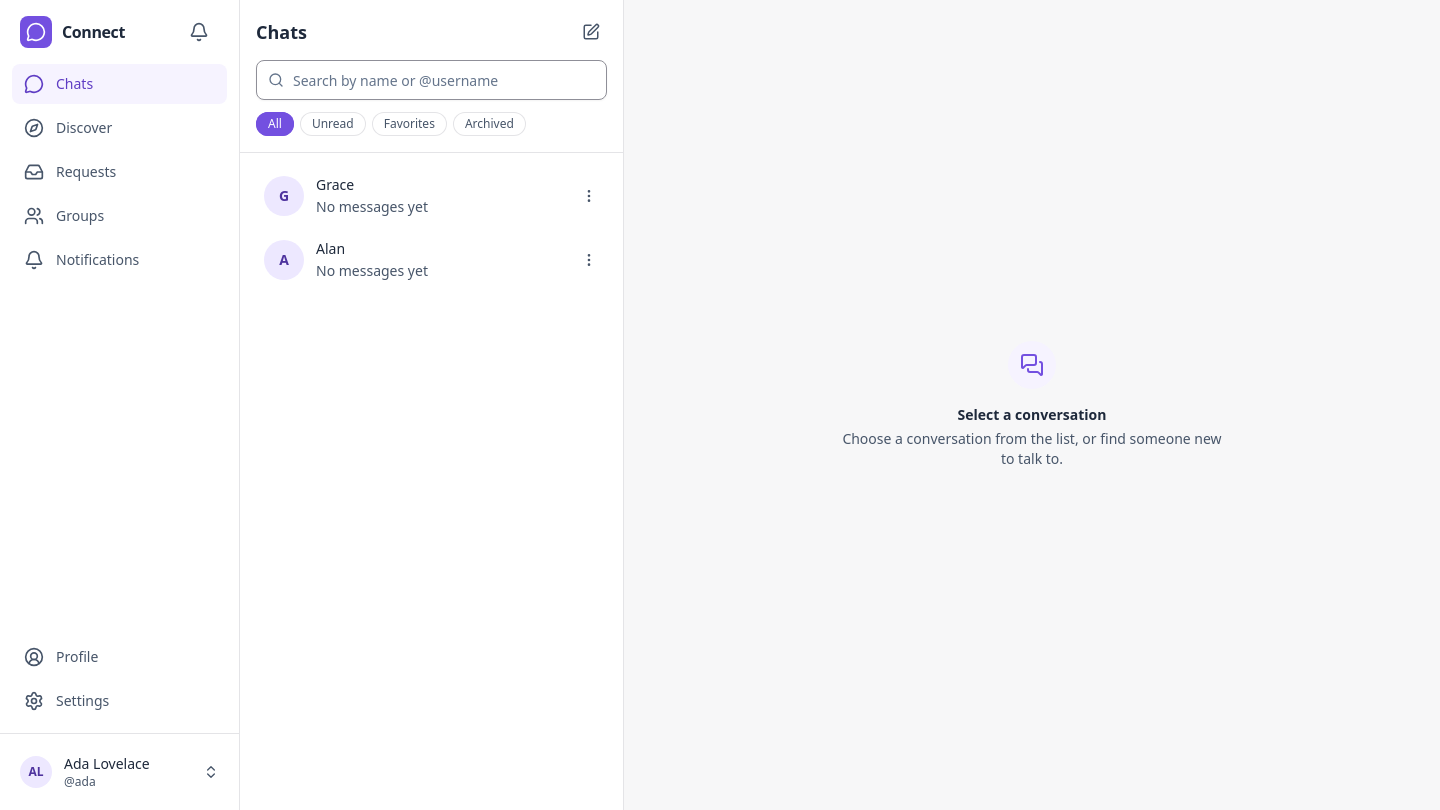
Test: chat list management › archives from the row menu and confirms only after the server succeeds
Step 1. Click the button named "Chat options for Grace" → coordinates (589, 196), box top-left (573, 180), bottom-right (605, 212)
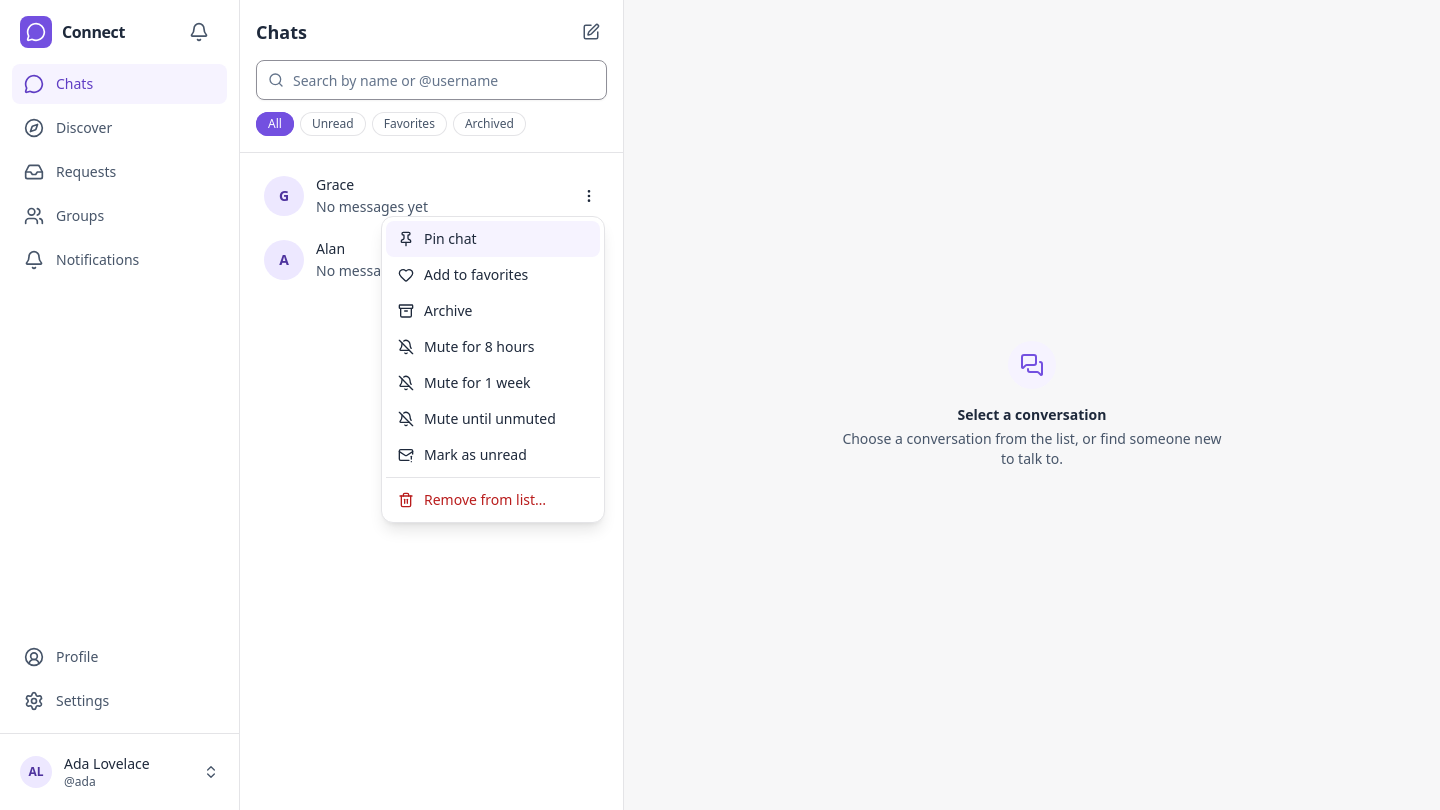
Step 2. Click the menu item "Archive" → coordinates (493, 311), box top-left (386, 293), bottom-right (600, 329)
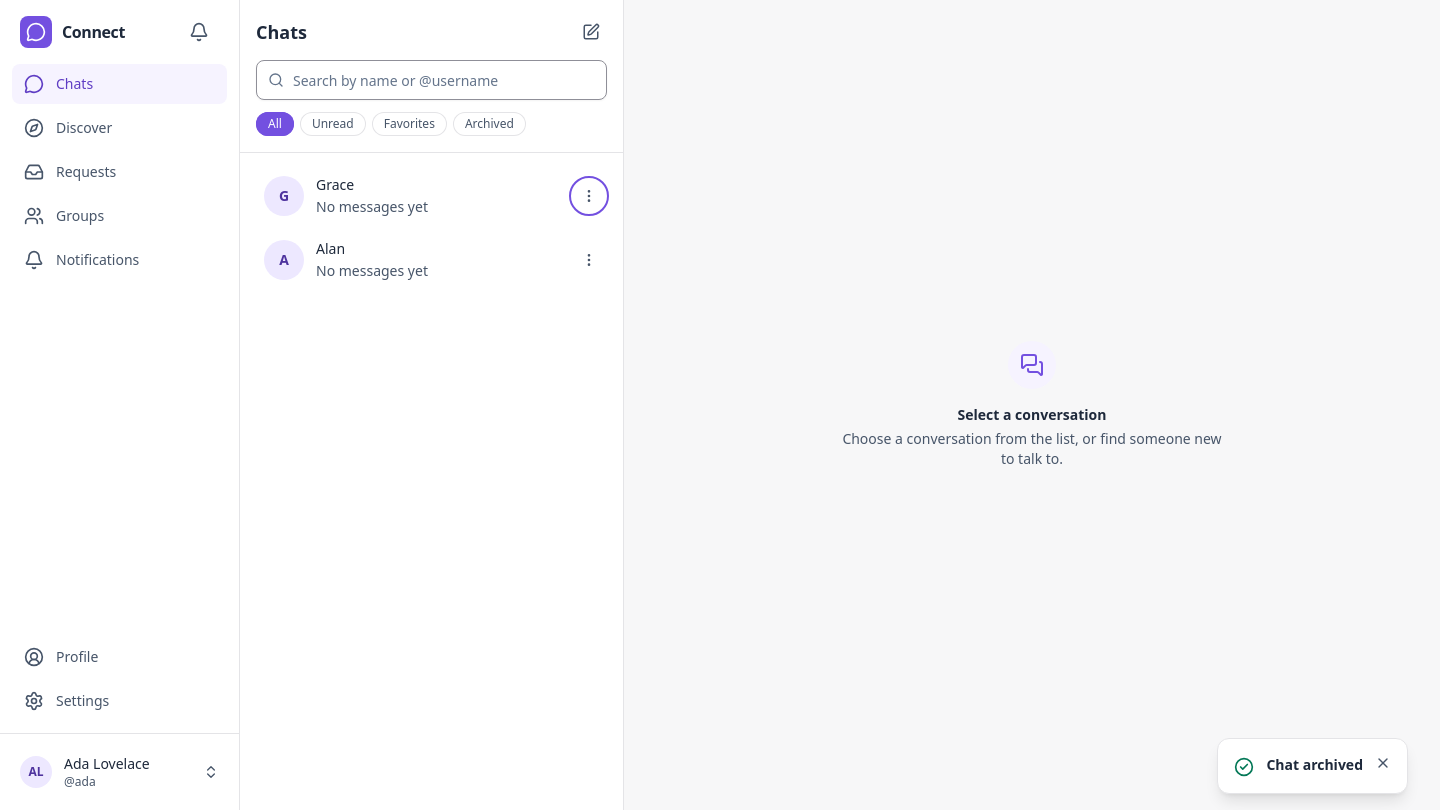
Now the text "Chat archived" is shown, box top-left (1266, 755), bottom-right (1363, 775)
